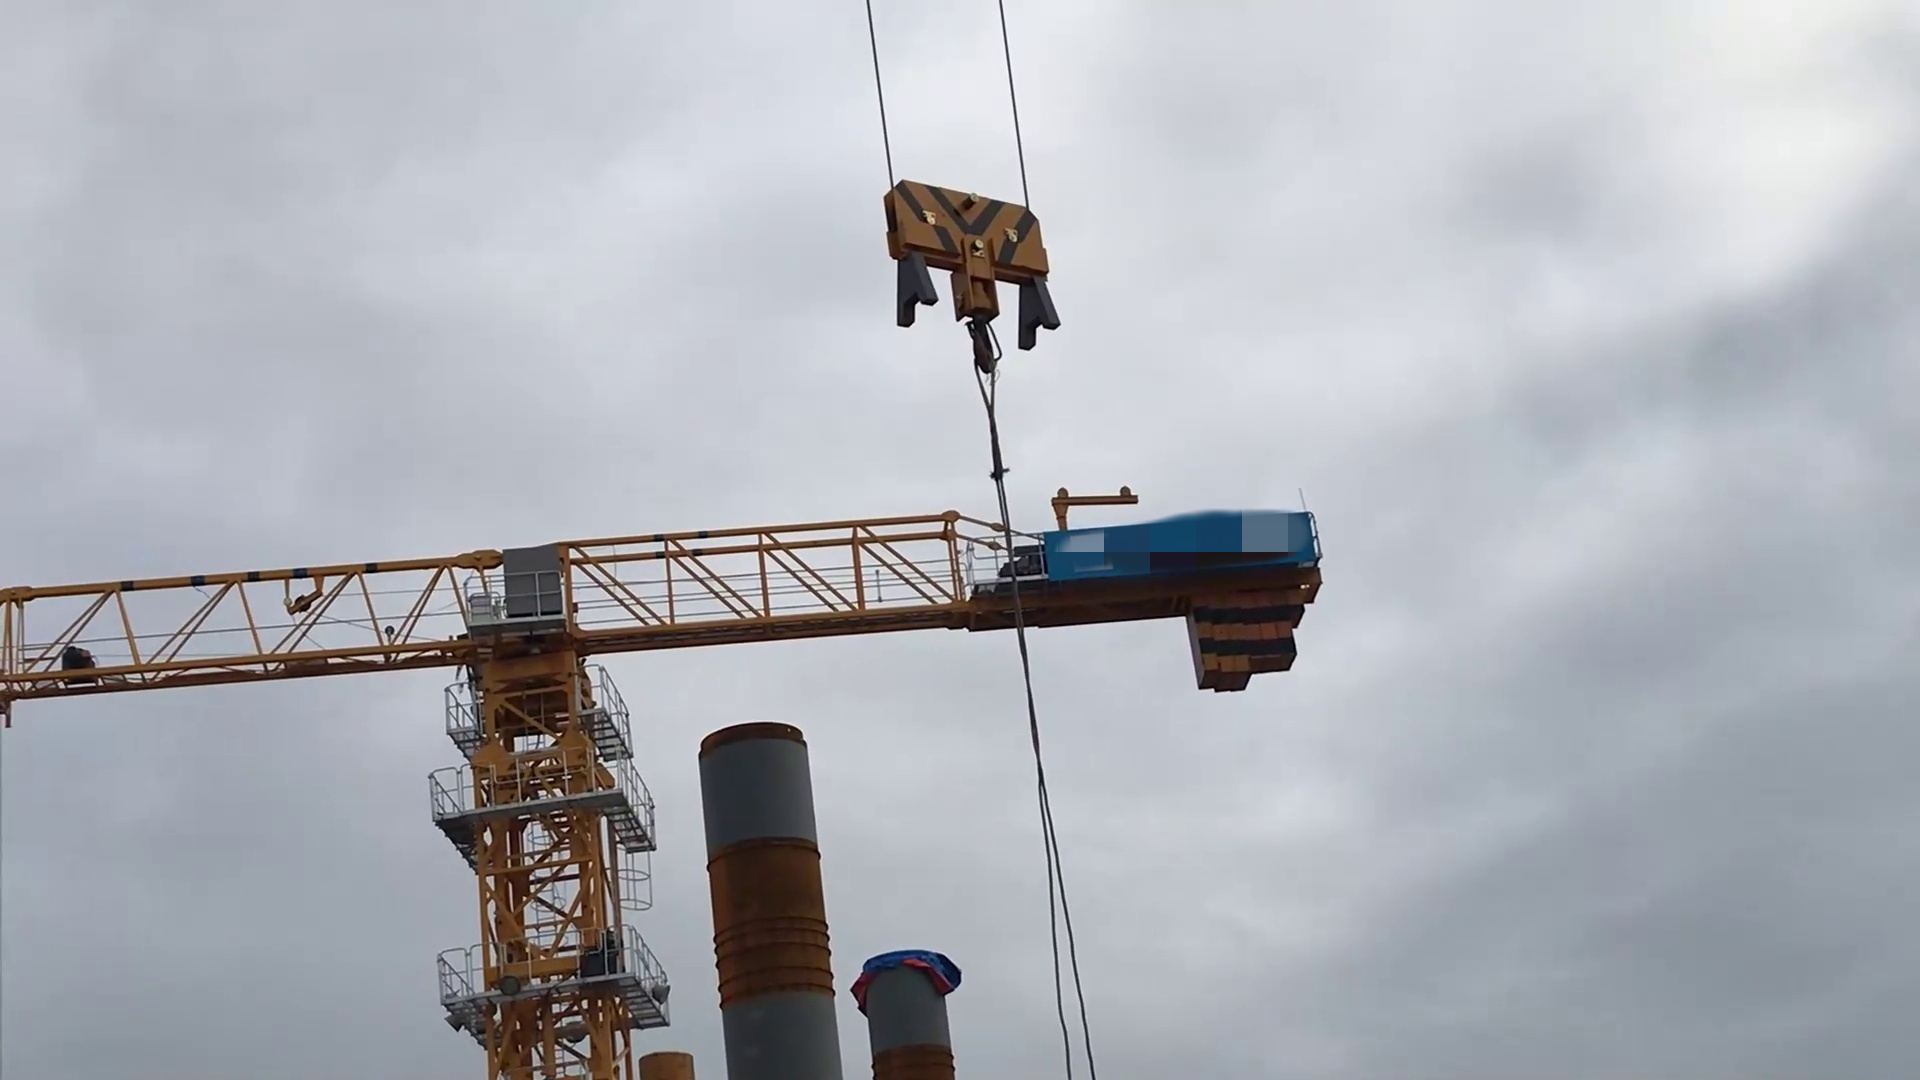hook: (866, 167, 1075, 382)
